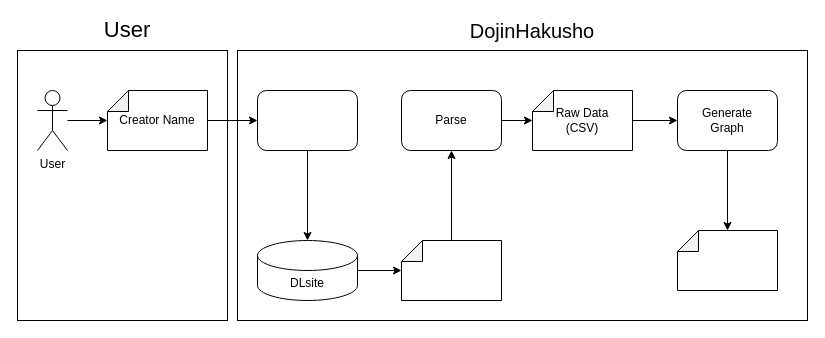
The diagram is 825 pixels wide and 338 high, and some of its shapes have lost their labels. Each missing label, with the centre of its shape:
"Crawl DLsite" belongs at point (307, 120).
"Graph Image" belongs at point (727, 260).
"HTML" belongs at point (451, 270).
